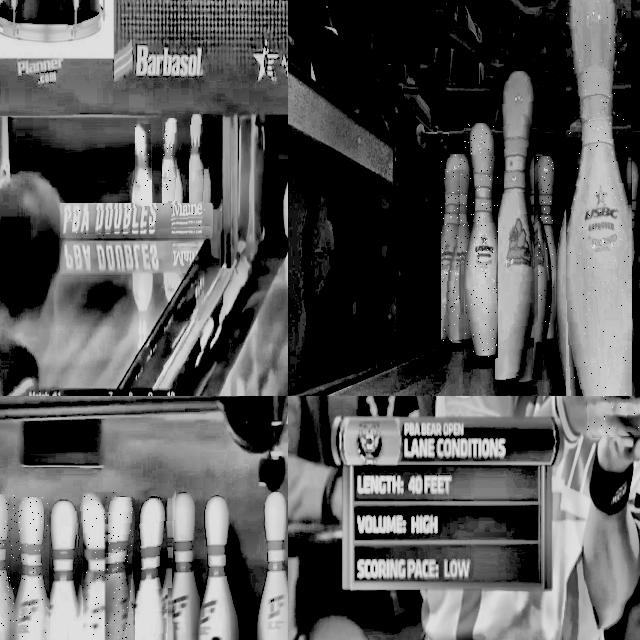bowling-pins: (566, 0, 629, 396), (496, 72, 539, 386), (464, 123, 498, 357), (197, 498, 239, 640), (42, 495, 82, 640), (136, 491, 169, 640), (14, 497, 48, 640), (84, 493, 116, 640), (257, 489, 288, 640), (168, 494, 200, 640), (442, 154, 465, 341), (107, 497, 133, 640), (537, 157, 556, 340), (0, 495, 14, 640), (622, 159, 640, 269), (190, 114, 205, 204), (162, 119, 177, 202), (84, 495, 104, 554), (136, 124, 150, 206), (629, 315, 636, 344)
sweep board: (61, 204, 211, 236)
